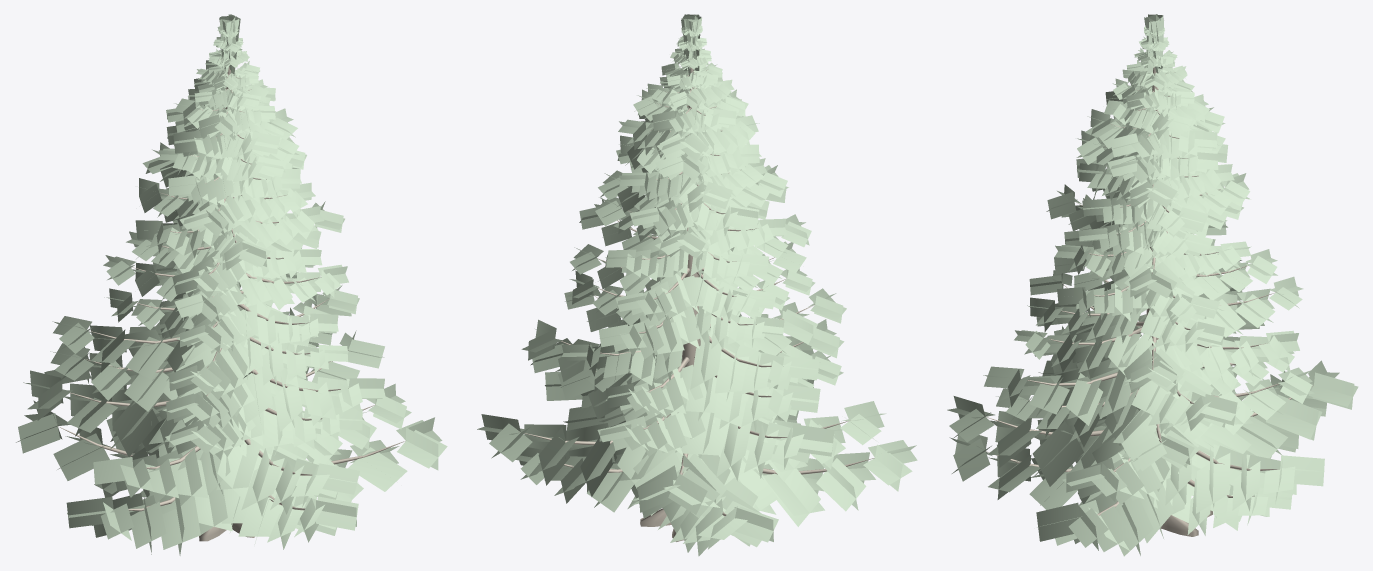
The model's file is tree-0.gltf.
3 views of the same model, side by side, from view 1: azimuth 30°, elevation 25°; view 2: azimuth 150°, elevation 25°; view 3: azimuth 270°, elevation 25° (orthographic).
Parts seen in each view (by area): view 1: TerraWeave Arbor; view 2: TerraWeave Arbor; view 3: TerraWeave Arbor.
Part boxes in pixels (box(x1,y1,x2,y2)): TerraWeave Arbor: box(16, 14, 447, 555); TerraWeave Arbor: box(477, 14, 917, 556); TerraWeave Arbor: box(947, 14, 1358, 556).
Size of the model in its own units: 9.78 by 12.66 by 9.4.
